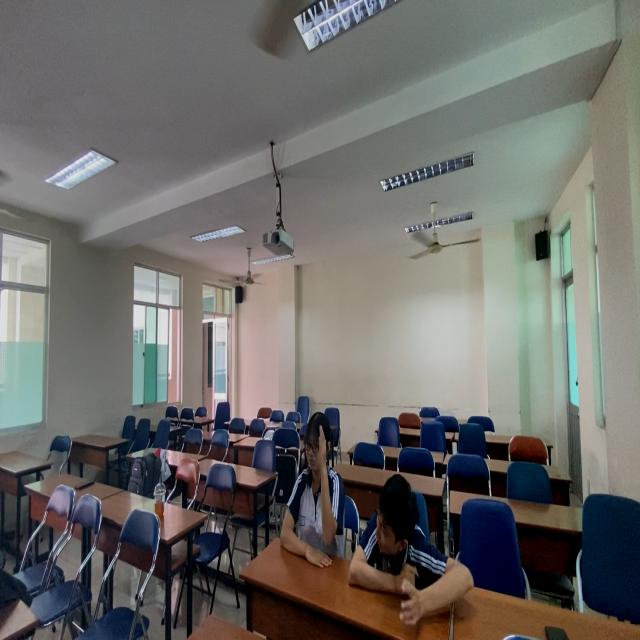raise_hand: (276, 406, 345, 571)
